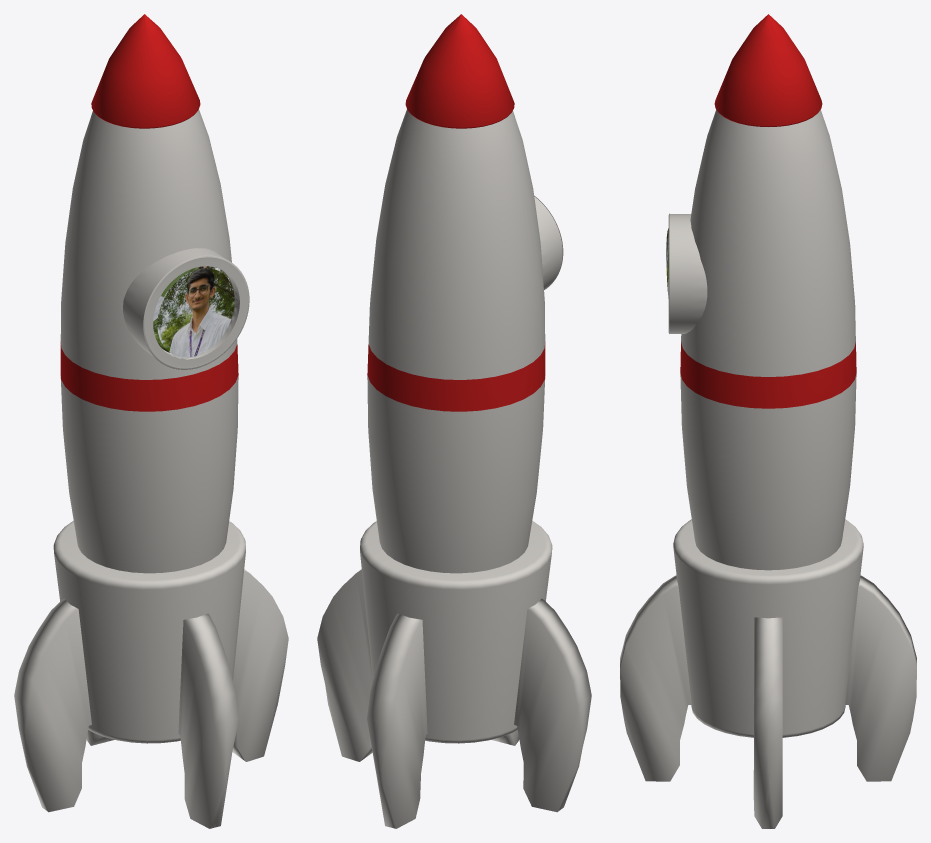
File: FinalRocket-DrH6RY-Y.glb
The picture shows the model from 3 angles, left to right: view 1: azimuth 30°, elevation 25°; view 2: azimuth 150°, elevation 25°; view 3: azimuth 270°, elevation 25°; orthographic projection.
Parts seen in each view (by area): view 1: Sphere, Cylinder.001, Cube.002, Cylinder, Cube.003, Cone, Cube; view 2: Sphere, Cylinder.001, Cube.002, Cube.001, Cone, Cube, Cylinder; view 3: Sphere, Cylinder.001, Cube.001, Cube.003, Cone, Cube, Cylinder.
Boxes of the visible parts, x1=… form: Sphere: x1=60, y1=109, x2=238, y2=573; Cylinder.001: x1=53, y1=521, x2=245, y2=743; Cube.002: x1=14, y1=598, x2=91, y2=812; Cylinder: x1=123, y1=248, x2=249, y2=369; Cube.003: x1=178, y1=613, x2=238, y2=828; Cone: x1=91, y1=14, x2=200, y2=128; Cube: x1=232, y1=569, x2=288, y2=761; Sphere: x1=367, y1=109, x2=545, y2=573; Cylinder.001: x1=360, y1=521, x2=552, y2=743; Cube.002: x1=514, y1=598, x2=591, y2=812; Cube.001: x1=367, y1=613, x2=427, y2=828; Cone: x1=405, y1=14, x2=514, y2=128; Cube: x1=317, y1=569, x2=372, y2=761; Cylinder: x1=534, y1=196, x2=563, y2=289; Sphere: x1=680, y1=110, x2=856, y2=570; Cylinder.001: x1=673, y1=519, x2=863, y2=737; Cube.001: x1=845, y1=575, x2=916, y2=781; Cube.003: x1=620, y1=575, x2=691, y2=781; Cone: x1=714, y1=14, x2=822, y2=126; Cube: x1=753, y1=617, x2=782, y2=828; Cylinder: x1=666, y1=213, x2=707, y2=333.
Bounding box in the file's own units: 1.77 × 5 × 1.76.
Materials: 3 (1 with a texture image).
